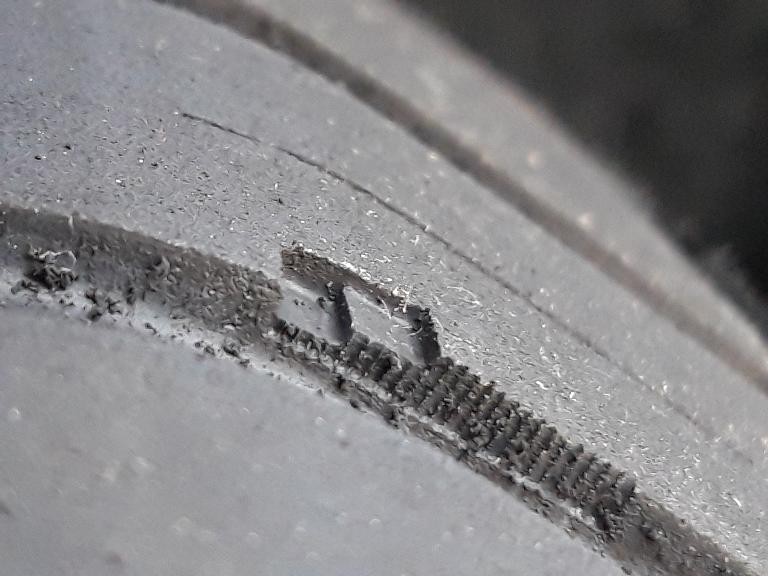temoin:25: (259, 238, 452, 418)
